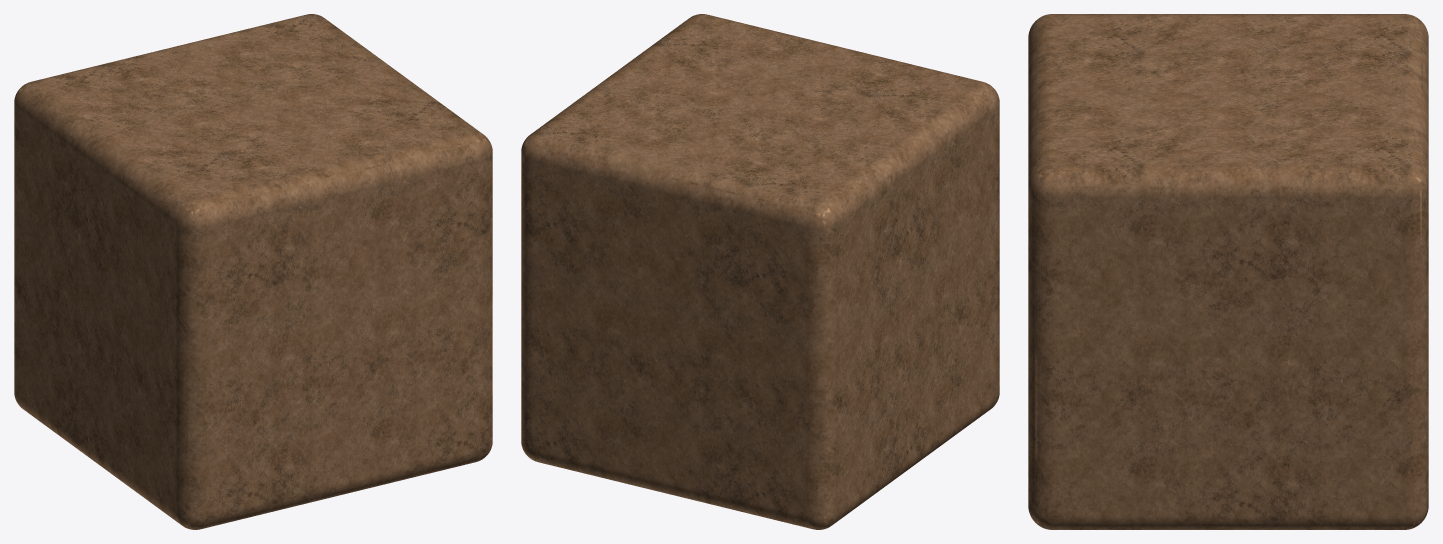
File: webp.gltf
The picture shows the model from 3 angles, left to right: view 1: azimuth 30°, elevation 25°; view 2: azimuth 150°, elevation 25°; view 3: azimuth 270°, elevation 25°; orthographic projection. The views are drawn at different scales.
Visible parts, largest first — view 1: Cube; view 2: Cube; view 3: Cube.
Boxes of the visible parts, left/top/right/bottom form: Cube: left=14, top=14, right=492, bottom=529; Cube: left=521, top=14, right=999, bottom=529; Cube: left=1028, top=14, right=1428, bottom=529.
Size of the model in its own units: 32.14 by 32.14 by 32.14.
1 material, 1 textured.
